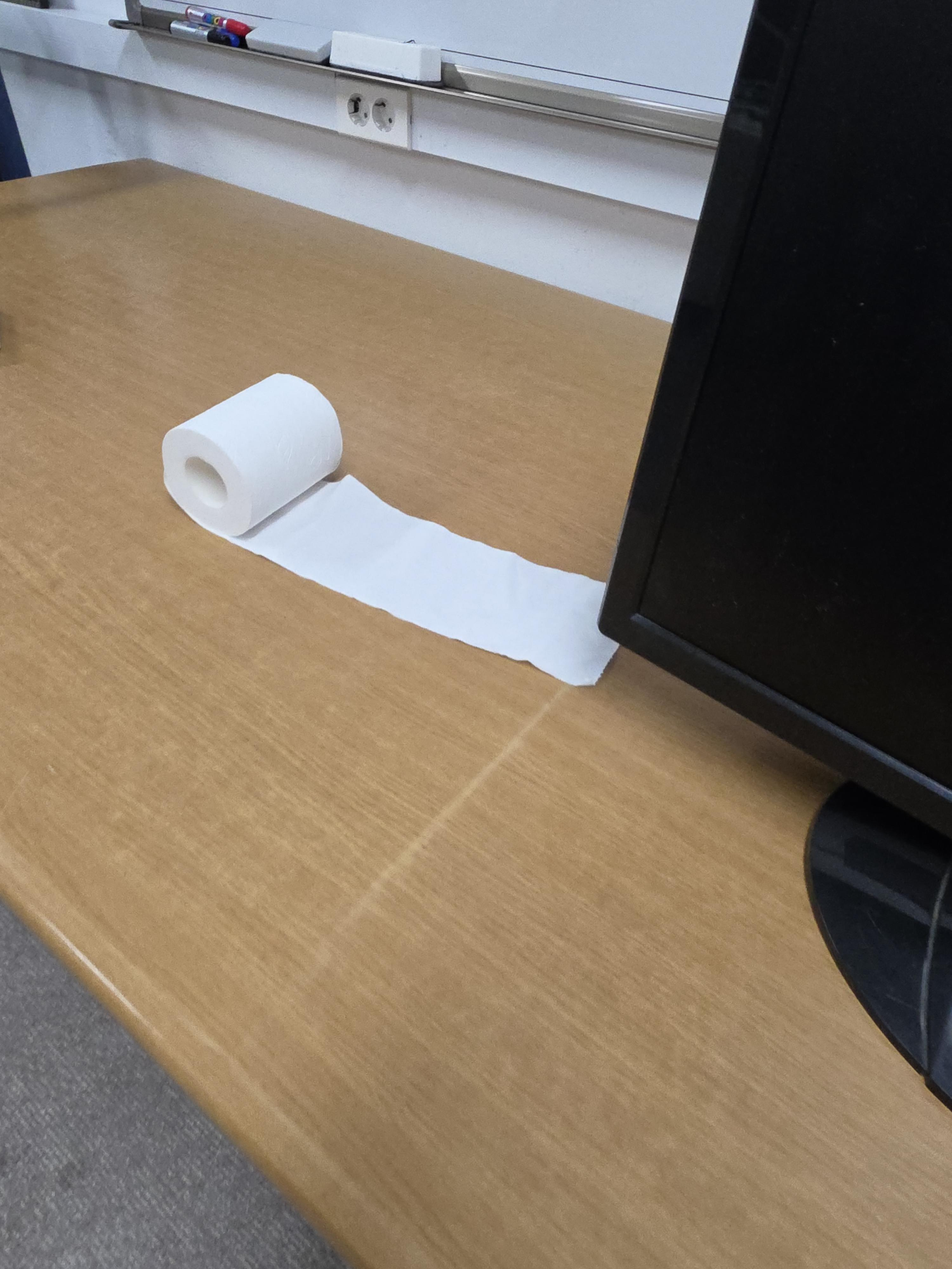tissue: (161, 373, 619, 687)
